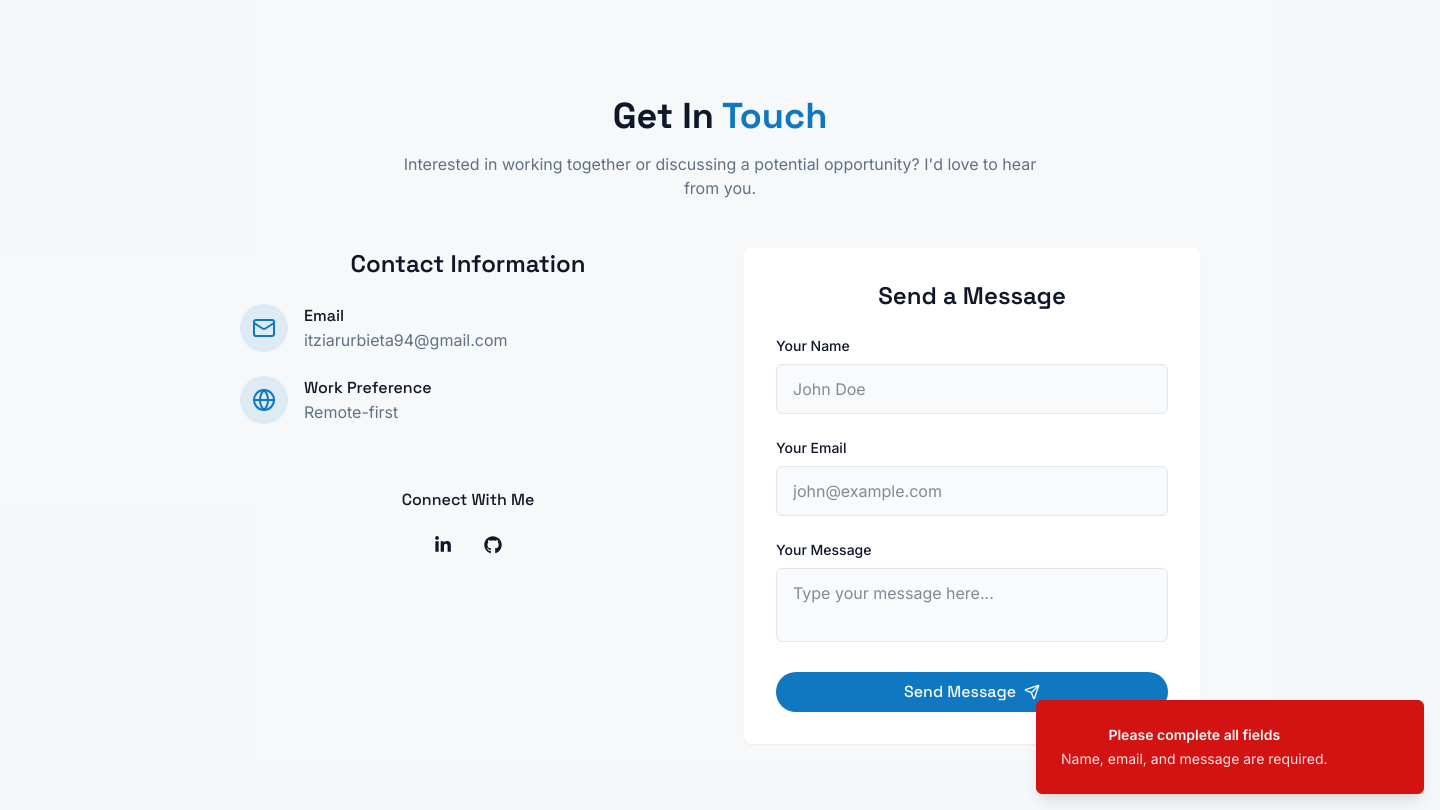
ContactSection › sends the message and shows a success toast when the form is filled in
The image size is (1440, 810).
Type "Jane Doe" into the field labelled "Your Name". click: coordinates (972, 389)
box: [776,364,1168,414]
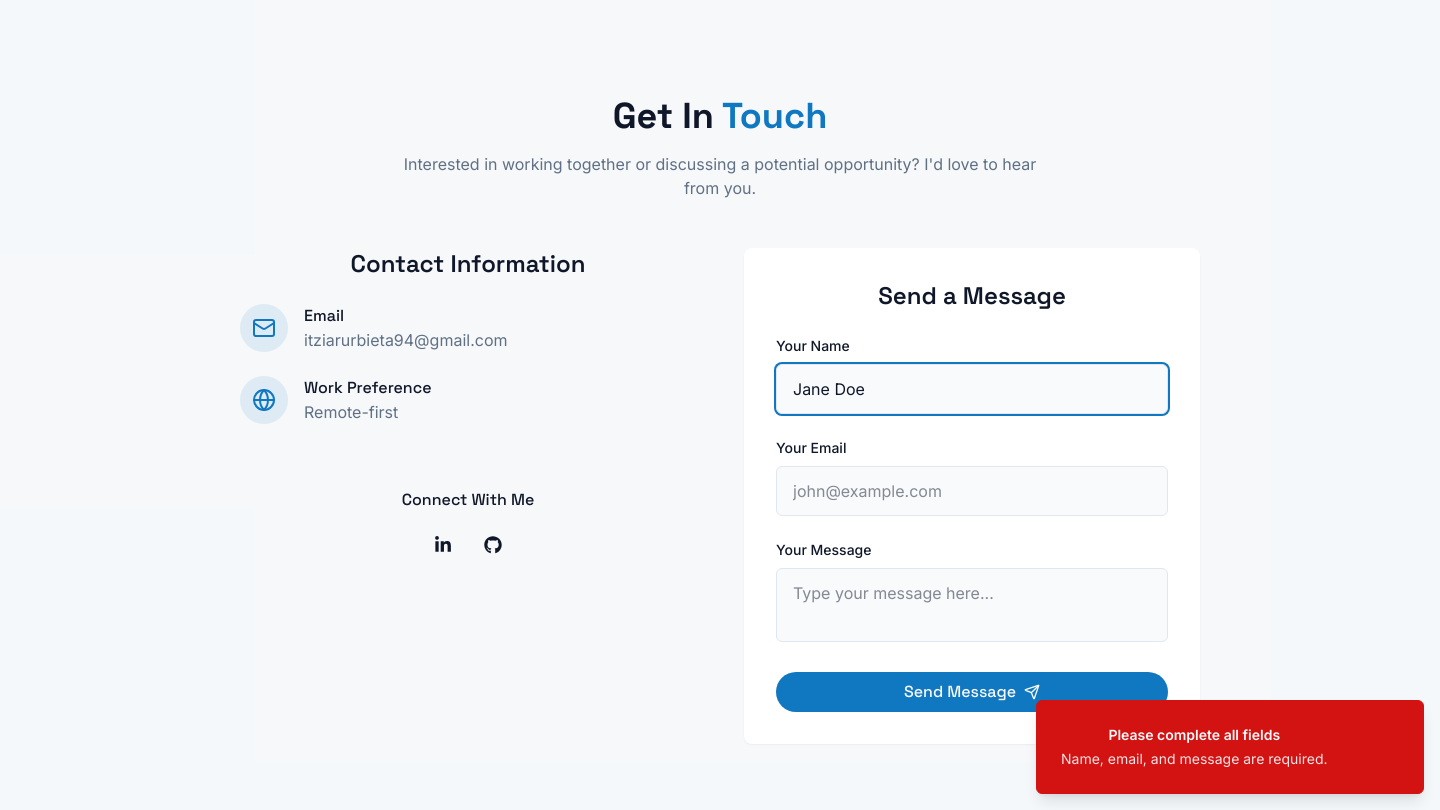
Type "jane@example.com" into the field labelled "Your Email". click: coordinates (972, 491)
box: [776,466,1168,516]
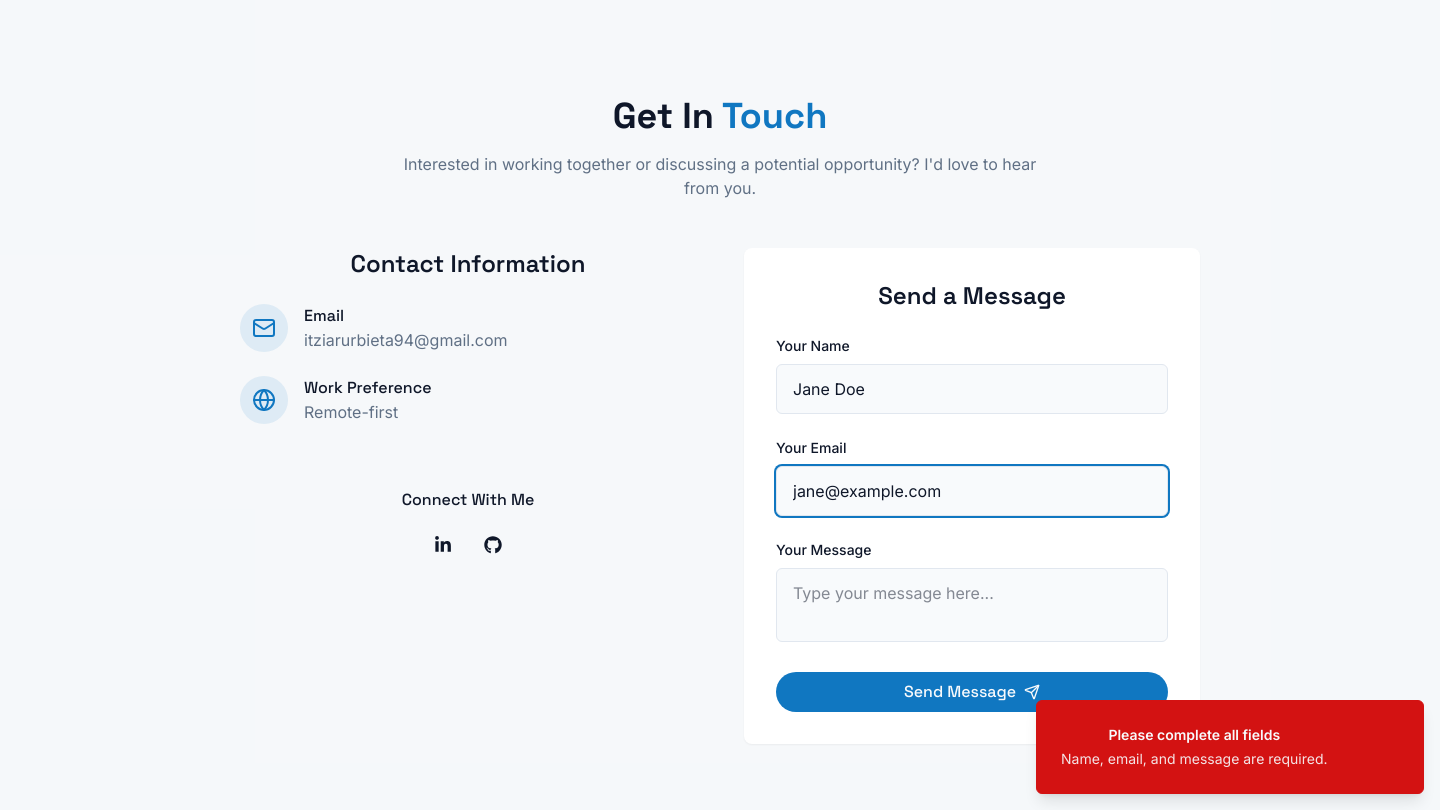
Type "Hello there!" into the text box labelled "Your Message". click: coordinates (972, 605)
box: [776,568,1168,642]
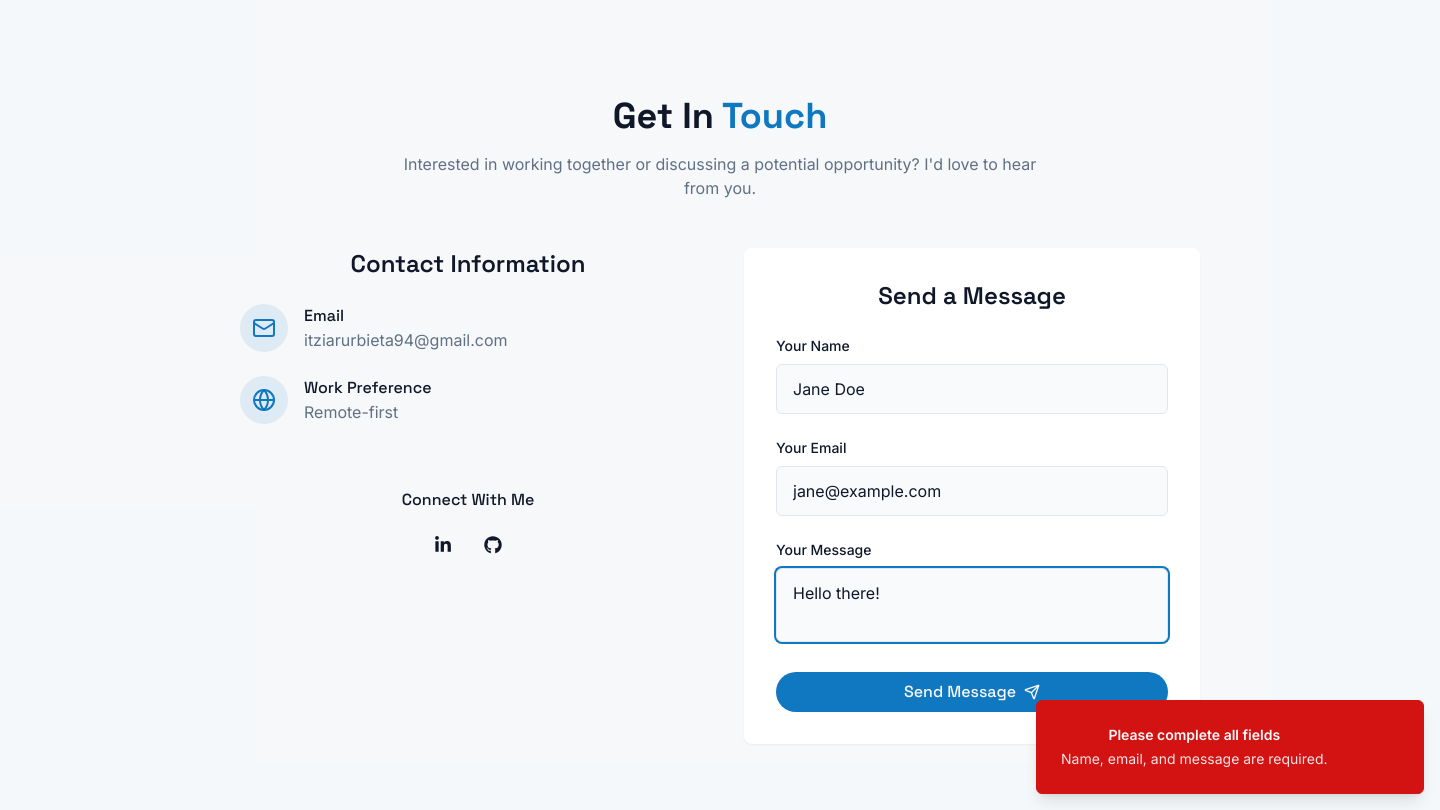
Click the button "Send Message". click: coordinates (972, 692)
box: [776,672,1168,712]
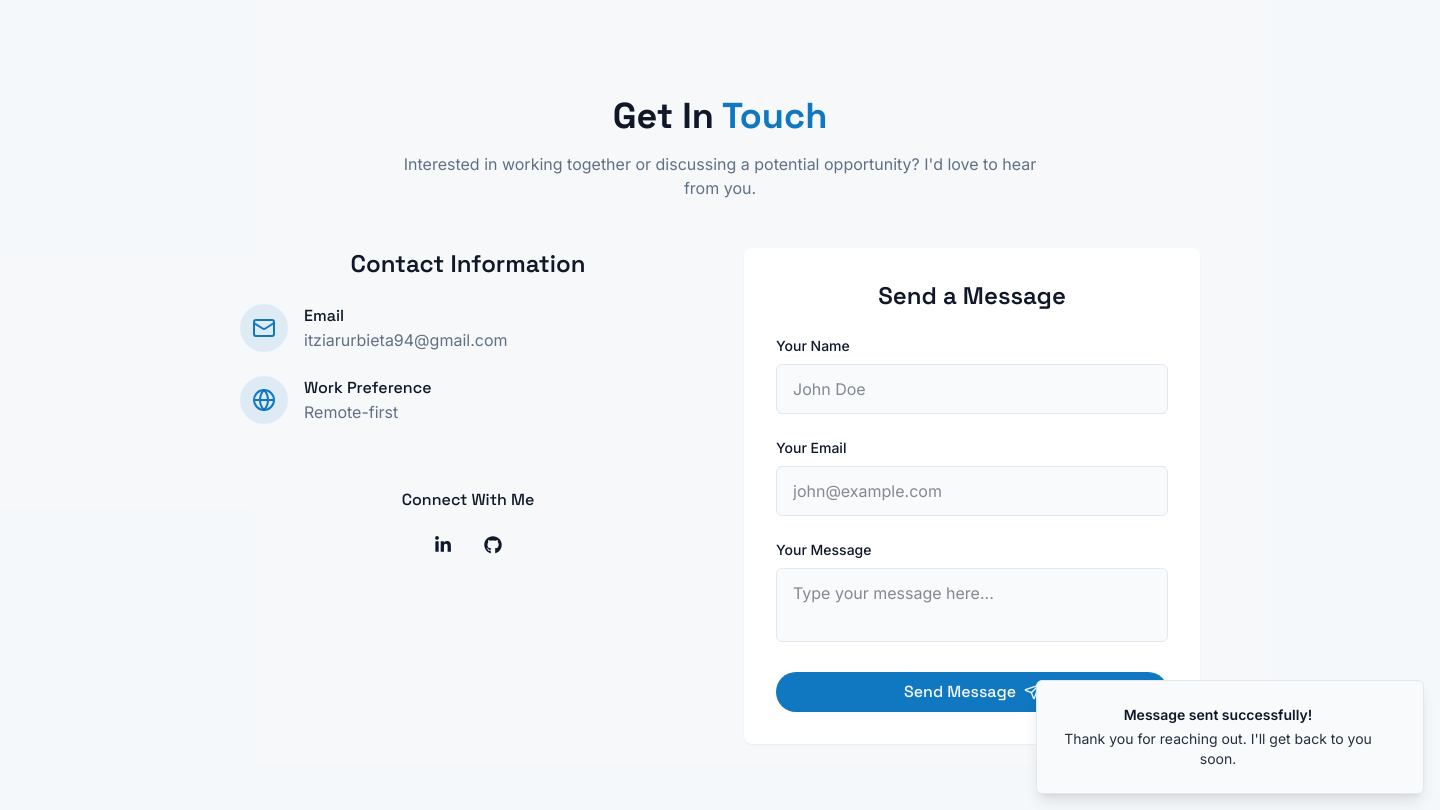
Check: the text "Message sent successfully!" is shown, box [1124,706,1312,723]
